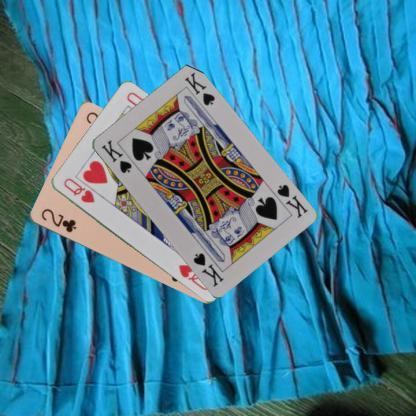2c: (38, 206, 78, 235)
Ks: (274, 182, 308, 219), (99, 136, 132, 174)
Qh: (60, 175, 96, 205)
